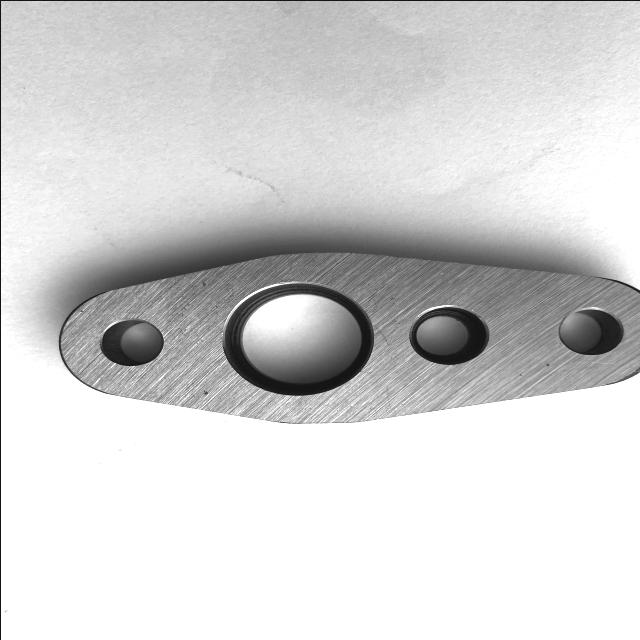lines: (200, 387, 210, 396), (542, 360, 553, 367), (516, 371, 524, 376)
